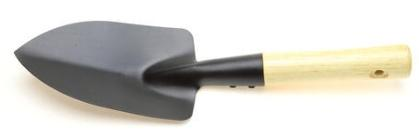PELLE: (3, 12, 419, 130)
